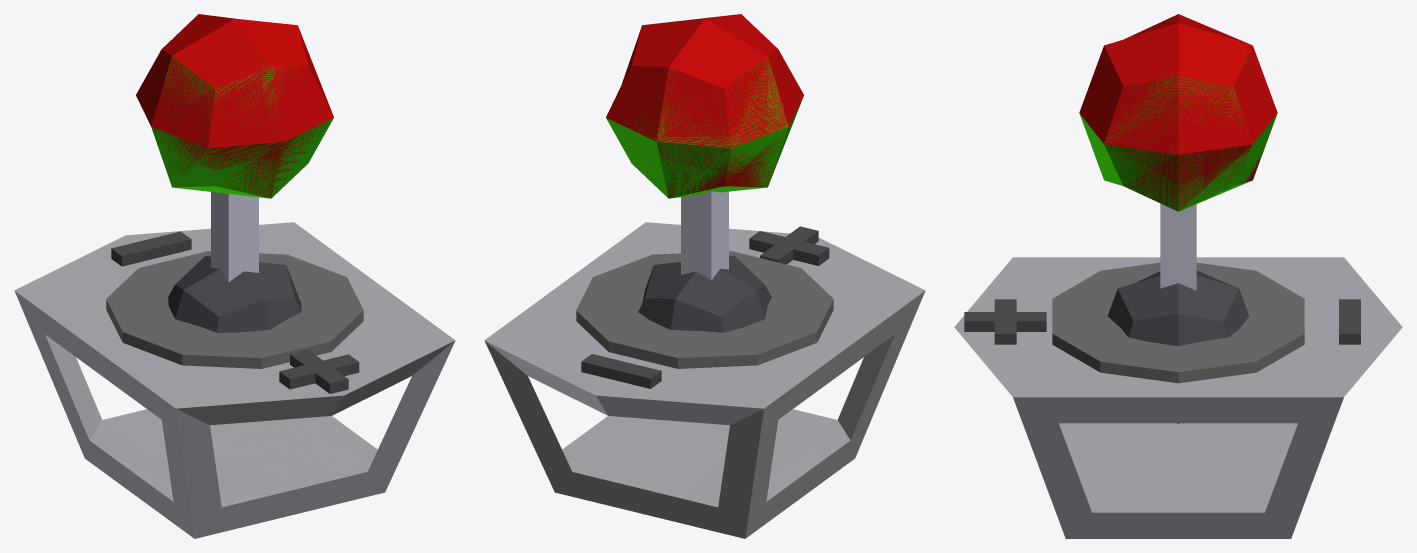
The model's file is animal_company_-_joystick.glb.
3 renders of one model, left to right at view 1: azimuth 30°, elevation 25°; view 2: azimuth 150°, elevation 25°; view 3: azimuth 270°, elevation 25°, orthographic. The views are drawn at different scales.
Visible parts, largest first — view 1: joystick_base.001_12, joystick_base.002_15, joystick_stick_13, joystick_stick.001_16; view 2: joystick_base.001_12, joystick_stick_13, joystick_base.002_15, joystick_stick.001_16; view 3: joystick_base.002_15, joystick_base.001_12, joystick_stick_13, joystick_stick.001_16.
Part boxes in pixels (x1=…): joystick_base.001_12: x1=14, y1=222, x2=453, y2=537; joystick_base.002_15: x1=45, y1=225, x2=455, y2=538; joystick_stick_13: x1=136, y1=14, x2=333, y2=332; joystick_stick.001_16: x1=151, y1=51, x2=333, y2=270; joystick_base.001_12: x1=484, y1=222, x2=925, y2=538; joystick_stick_13: x1=606, y1=14, x2=803, y2=332; joystick_base.002_15: x1=552, y1=225, x2=894, y2=501; joystick_stick.001_16: x1=606, y1=56, x2=802, y2=269; joystick_base.002_15: x1=954, y1=257, x2=1380, y2=538; joystick_base.001_12: x1=981, y1=257, x2=1402, y2=511; joystick_stick_13: x1=1079, y1=14, x2=1277, y2=345; joystick_stick.001_16: x1=1079, y1=60, x2=1277, y2=423.
Bounding box in the file's own units: 0.0951 × 0.1483 × 0.1287.
